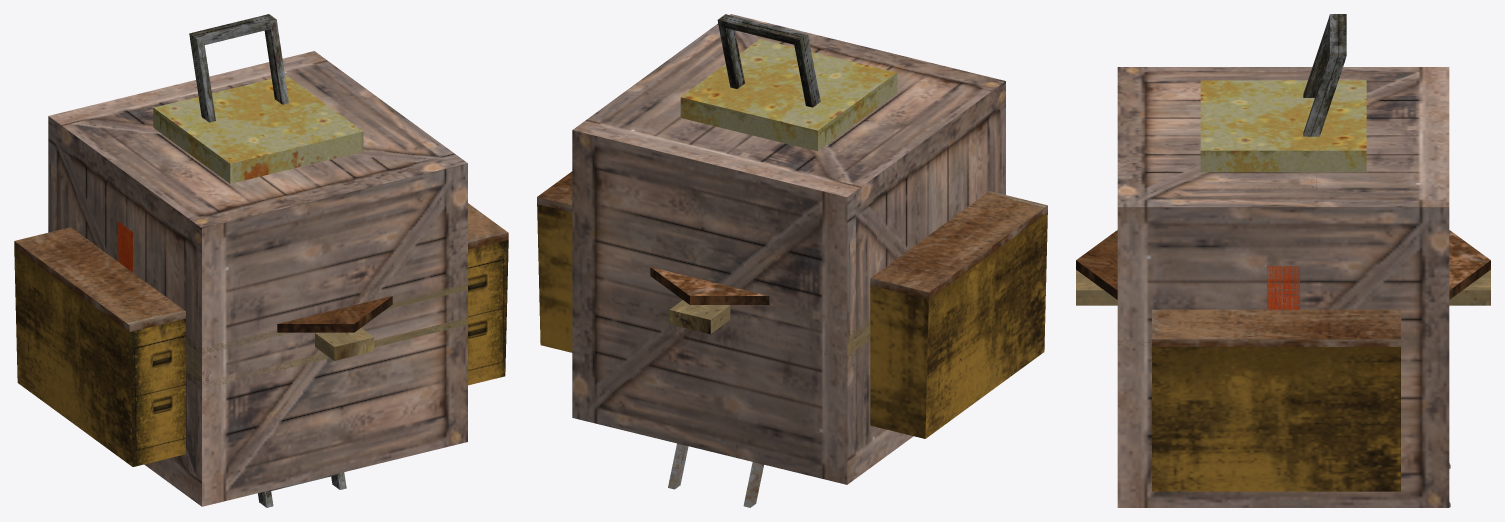
The model's file is GrungePropsVol1.fbx.
The picture shows the model from 3 angles, left to right: view 1: azimuth 30°, elevation 25°; view 2: azimuth 150°, elevation 25°; view 3: azimuth 270°, elevation 25°; orthographic projection. The views are drawn at different scales.
Visible parts, largest first — view 1: Crate, Desk, Fridge, Ladder, Pallet, Table, Plank, BarrierLarge; view 2: Crate, Desk, Fridge, Ladder, Table, Plank, Pallet; view 3: Crate, Desk, Fridge, Table, Ladder, Plank, BarrierLarge.
Boxes of the visible parts, x1,y1,x2,y2 form: Crate: (48, 51, 467, 506); Desk: (14, 203, 508, 466); Fridge: (153, 75, 363, 183); Ladder: (189, 14, 346, 507); Pallet: (186, 283, 467, 389); Table: (277, 296, 392, 332); Plank: (315, 328, 374, 360); BarrierLarge: (117, 221, 132, 272); Crate: (572, 14, 1005, 484); Desk: (537, 171, 1047, 438); Fridge: (680, 39, 897, 151); Ladder: (668, 14, 820, 507); Table: (650, 267, 769, 304); Plank: (669, 300, 730, 334); Pallet: (631, 304, 870, 362); Crate: (1117, 67, 1449, 507); Desk: (1152, 309, 1400, 491); Fridge: (1200, 80, 1366, 172); Table: (1076, 230, 1490, 299); Ladder: (1303, 14, 1450, 507); Plank: (1076, 270, 1490, 305); BarrierLarge: (1267, 266, 1299, 309).
Size of the model in its own units: 2.85 by 3 by 2.5.
